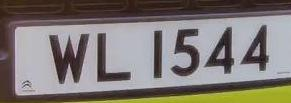1: (144, 21, 173, 85)
4: (202, 18, 240, 83), (238, 15, 275, 81)
5: (164, 21, 206, 84)
L: (93, 26, 137, 88)
W: (47, 26, 93, 89)
